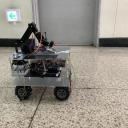cart: (9, 46, 71, 100)
